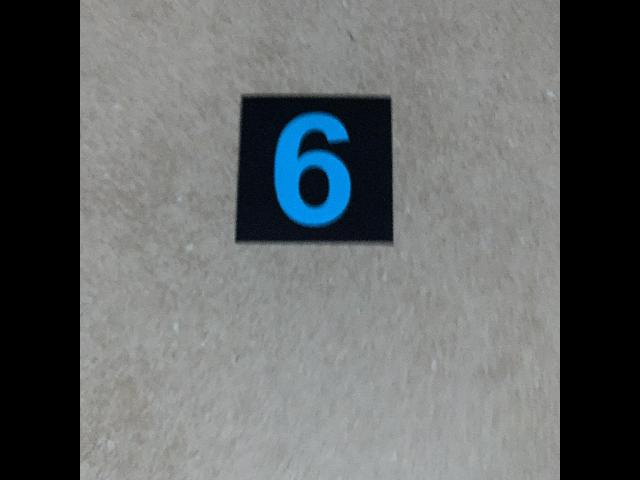six: (234, 92, 396, 249)
